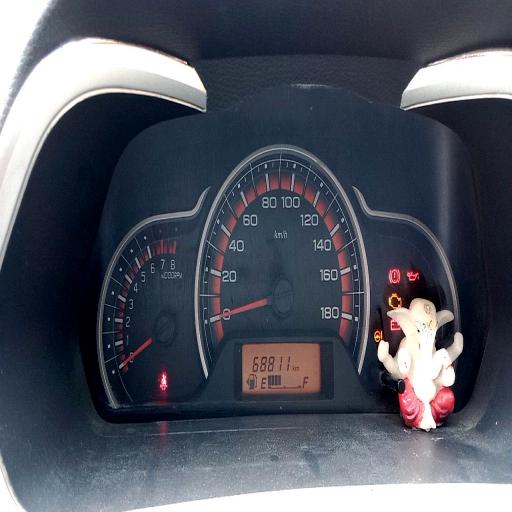belt: (160, 374, 167, 391)
brake_system_fault: (389, 268, 400, 284)
check_engine: (388, 292, 402, 309)
oil: (407, 271, 419, 282)
tachometer: (96, 210, 192, 408)
